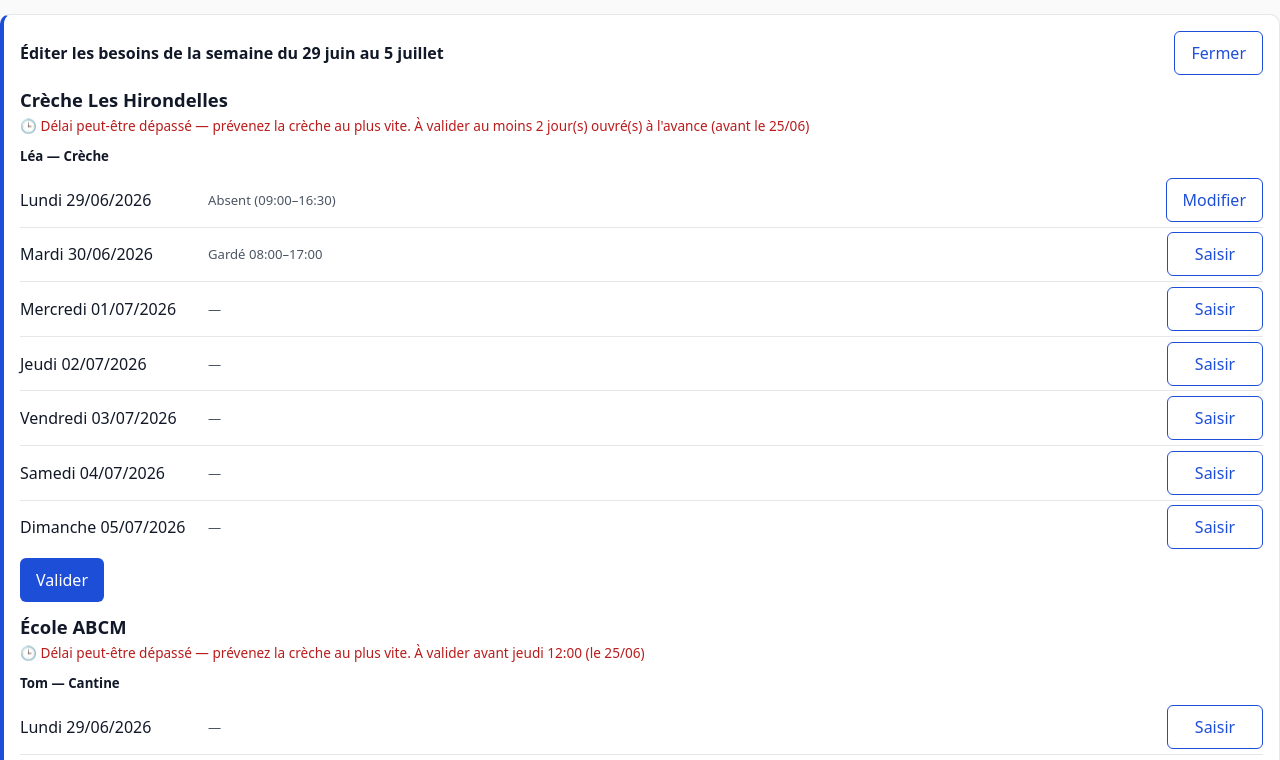
Test: EditeurSemaine › valide un contrat et propose le récap quand il y a des modifications
expect the heading "Léa — Crèche" is shown: met, box x1=20 y1=147 x2=109 y2=165
Click the button with aria-label "Valider la semaine du 29 juin au 5 juillet — Léa, Crèche" at (62, 580), box x1=20 y1=558 x2=104 y2=602
(page scrolled)
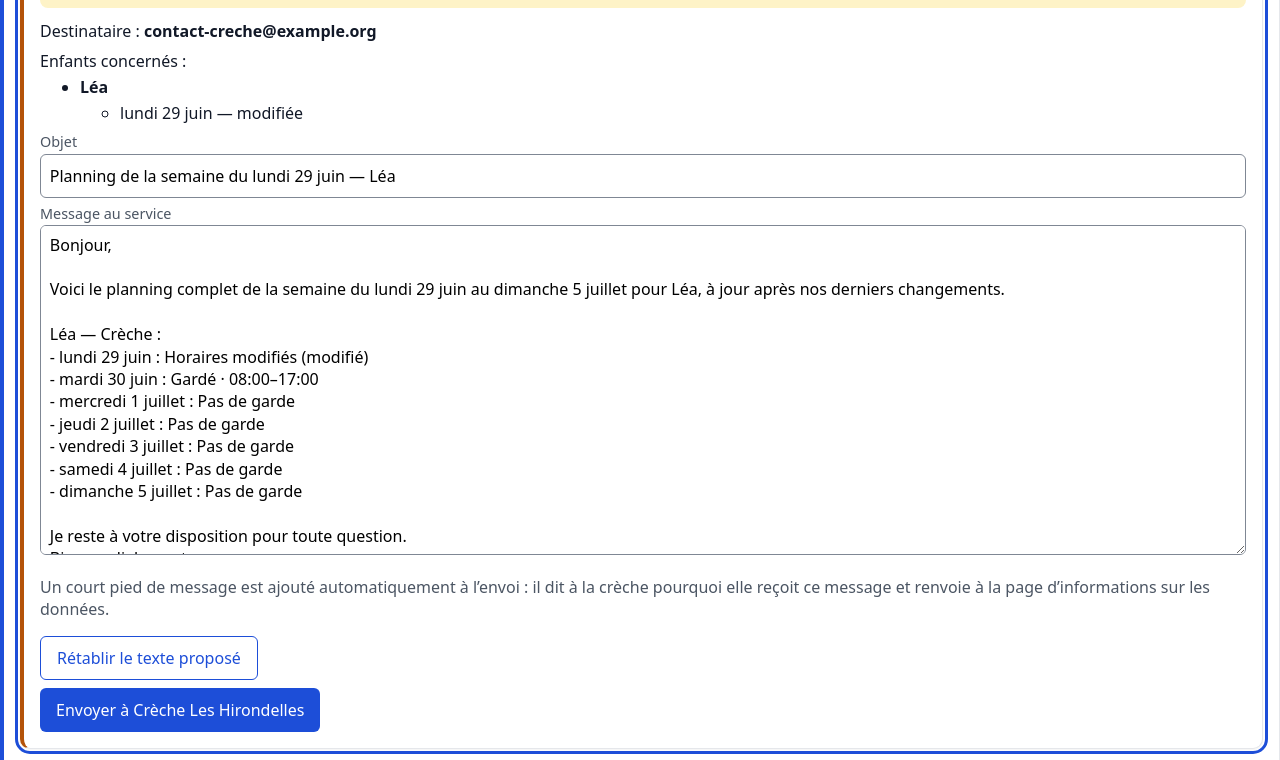
expect the button with aria-label "Envoyer le récapitulatif à Crèche Les Hirondelles" is shown: met, box x1=40 y1=688 x2=320 y2=732
